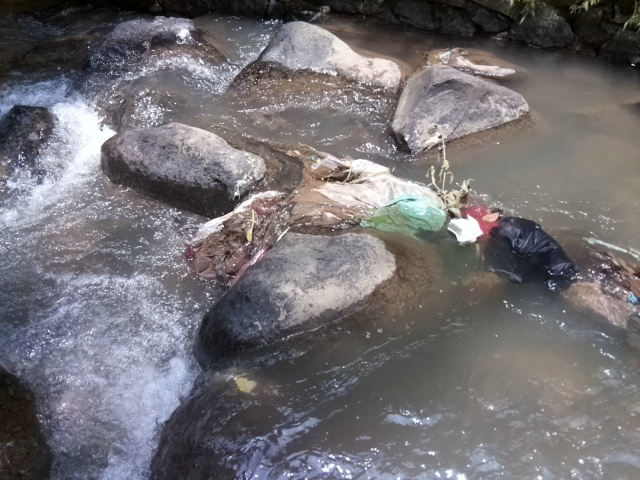Sampah_Plastik: (181, 152, 444, 277), (486, 210, 581, 291)
Sampah_Styrofoam: (448, 215, 482, 245)
